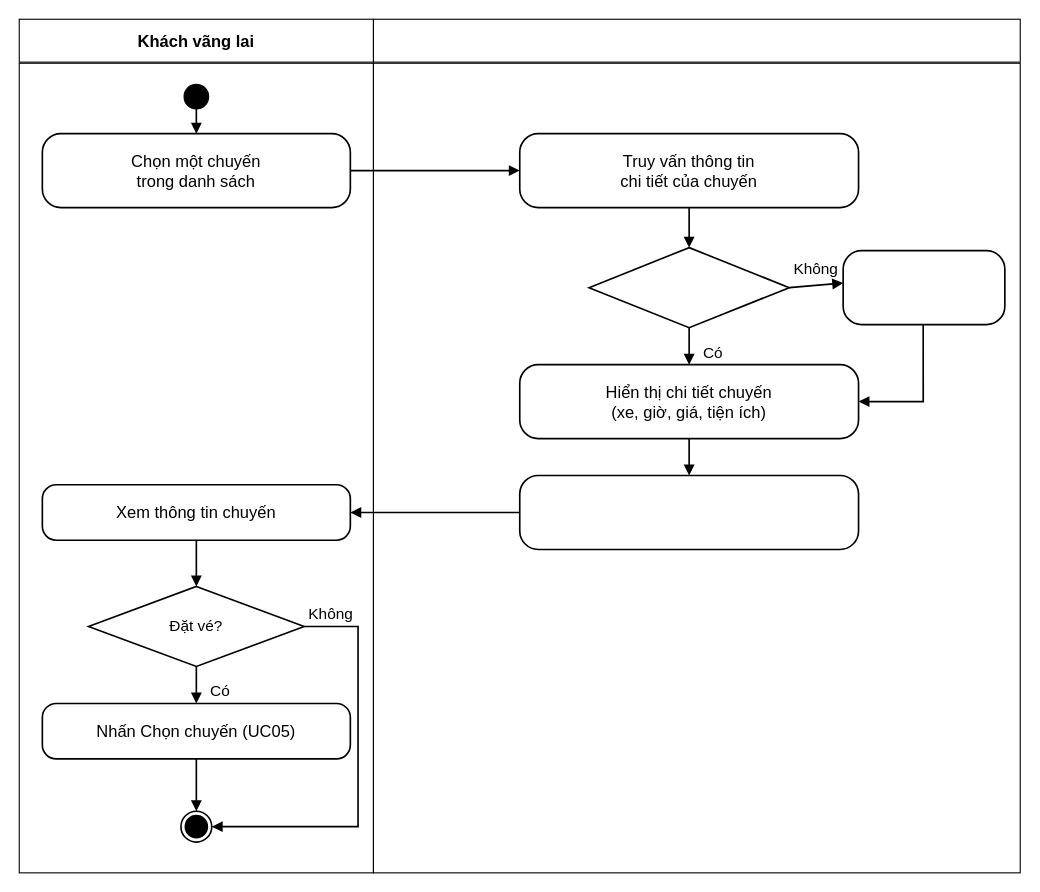
The diagram is 1040 pixels wide and 892 high, and some of its shapes have lost their labels. The centre of each missing label's shape, as x and y in pixels:
"Còn chỗ?" goes at [689,287].
"Hiển thị Hết chỗ" goes at [923,287].
"Hiển thị điểm đón/trả, chính sách hủy vé" goes at [688,512].
"Hệ thống" goes at [696,40].
